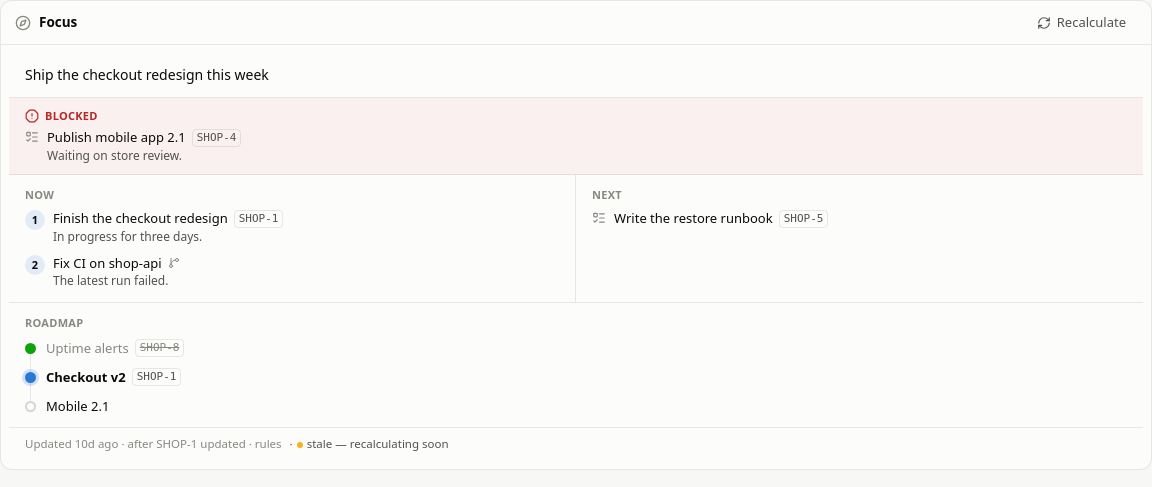
Test case: Focus panel › shows now, next, roadmap and blockers, opens tasks and recalculates
Expected: the text "Ship the checkout redesign this week" is shown, [9,53,1143,98]
Expected: the text "Finish the checkout redesign" is shown, [53,209,228,228]
Step 1. Click the button "SHOP-1" next to "Finish the checkout redesign" → (259, 219), box [234,210,284,228]
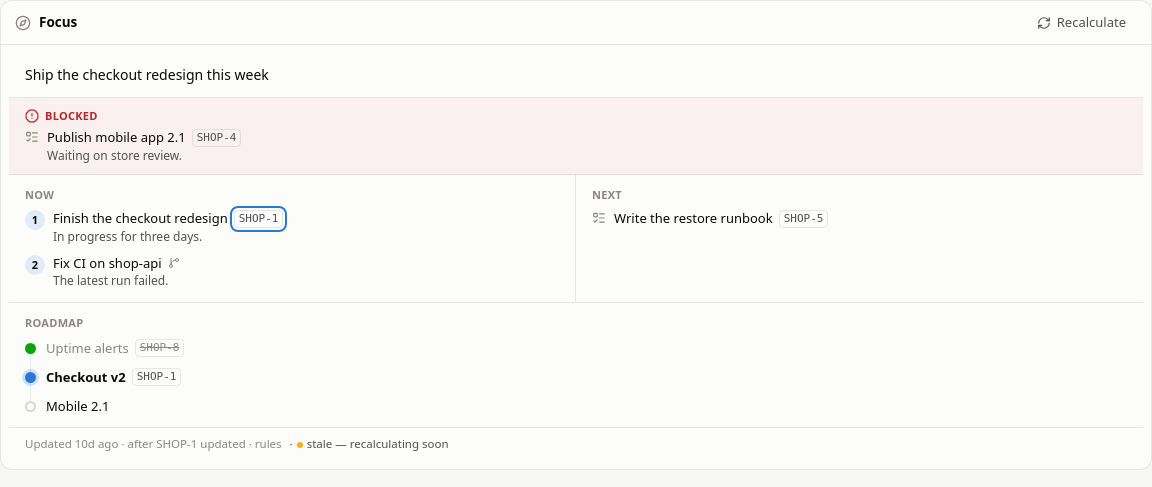
Step 2. Click the button "Recalculate" → (1081, 22), box [1026,8,1137,36]
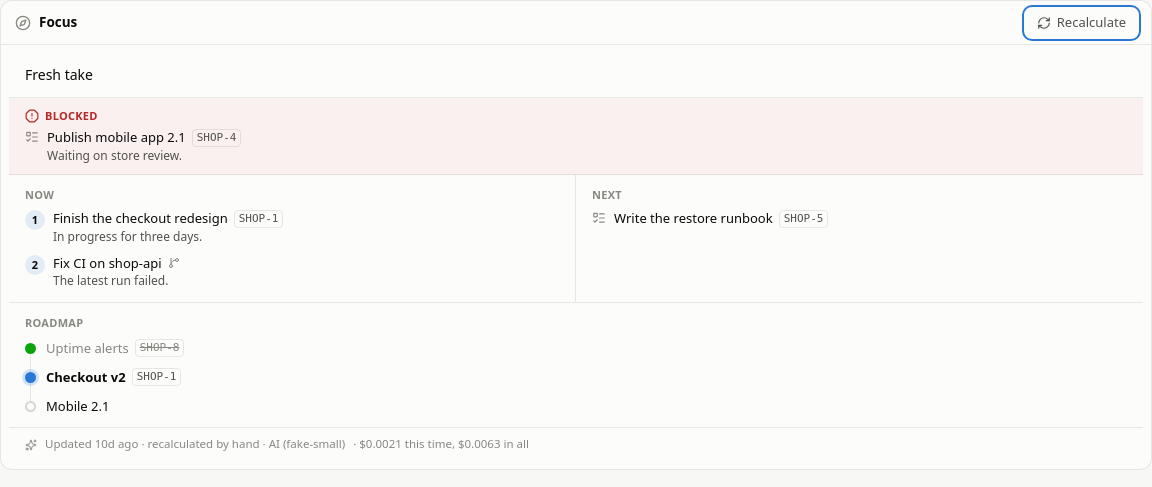
Now the text "Fresh take" is shown, box [9,53,1143,98]
Now the text "Updated 10d ago · recalculated by hand · AI (fake-small)" is shown, box [45,436,345,453]
Now the text "stale" is gone
